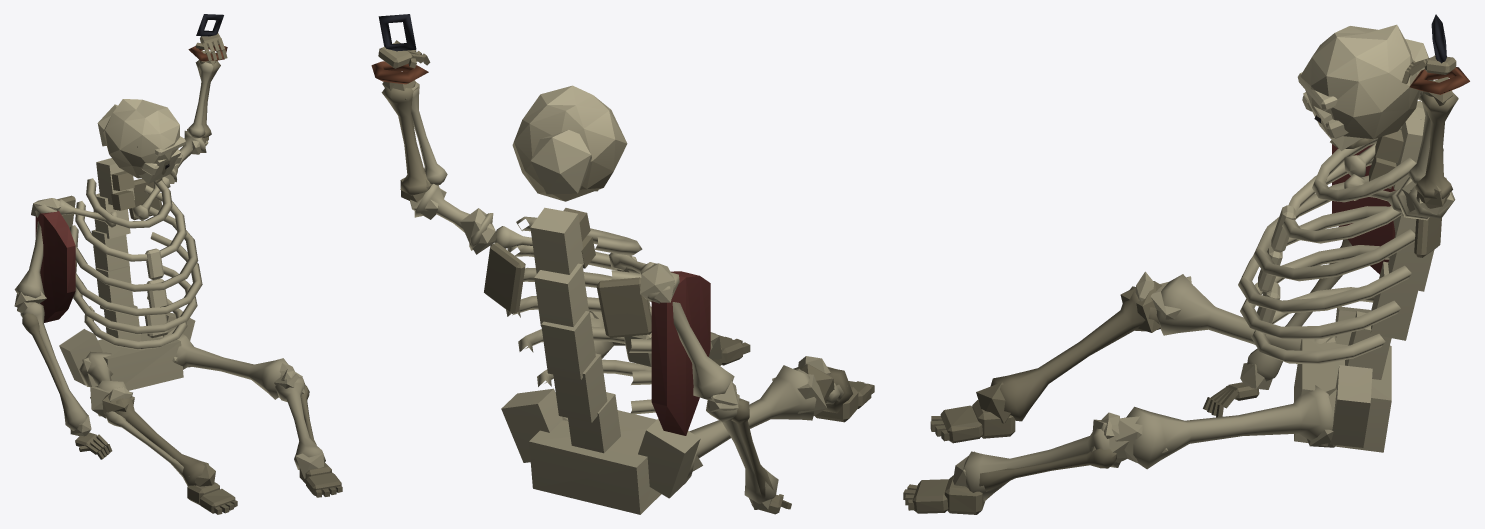
Rendered from dun-skeleton.glb.
3 views of the same model, side by side, from view 1: azimuth 30°, elevation 25°; view 2: azimuth 150°, elevation 25°; view 3: azimuth 270°, elevation 25° (orthographic). The views are drawn at different scales.
Parts seen in each view (by area): view 1: dun_skeleton; view 2: dun_skeleton; view 3: dun_skeleton.
Boxes of the visible parts, bbox=[...] form: dun_skeleton: bbox=[14, 14, 342, 514]; dun_skeleton: bbox=[371, 14, 874, 514]; dun_skeleton: bbox=[903, 14, 1469, 514].
Size of the model in its own units: 0.6312 by 0.9032 by 0.8772.
